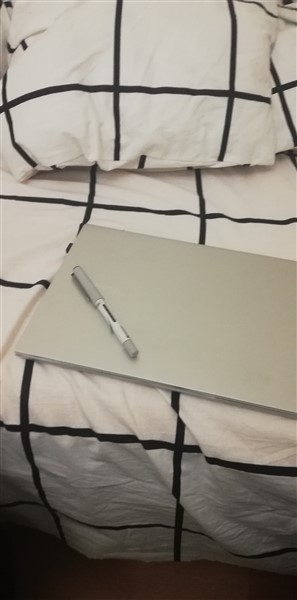laptop: (16, 216, 296, 415)
pilot kalem: (70, 265, 143, 366)
